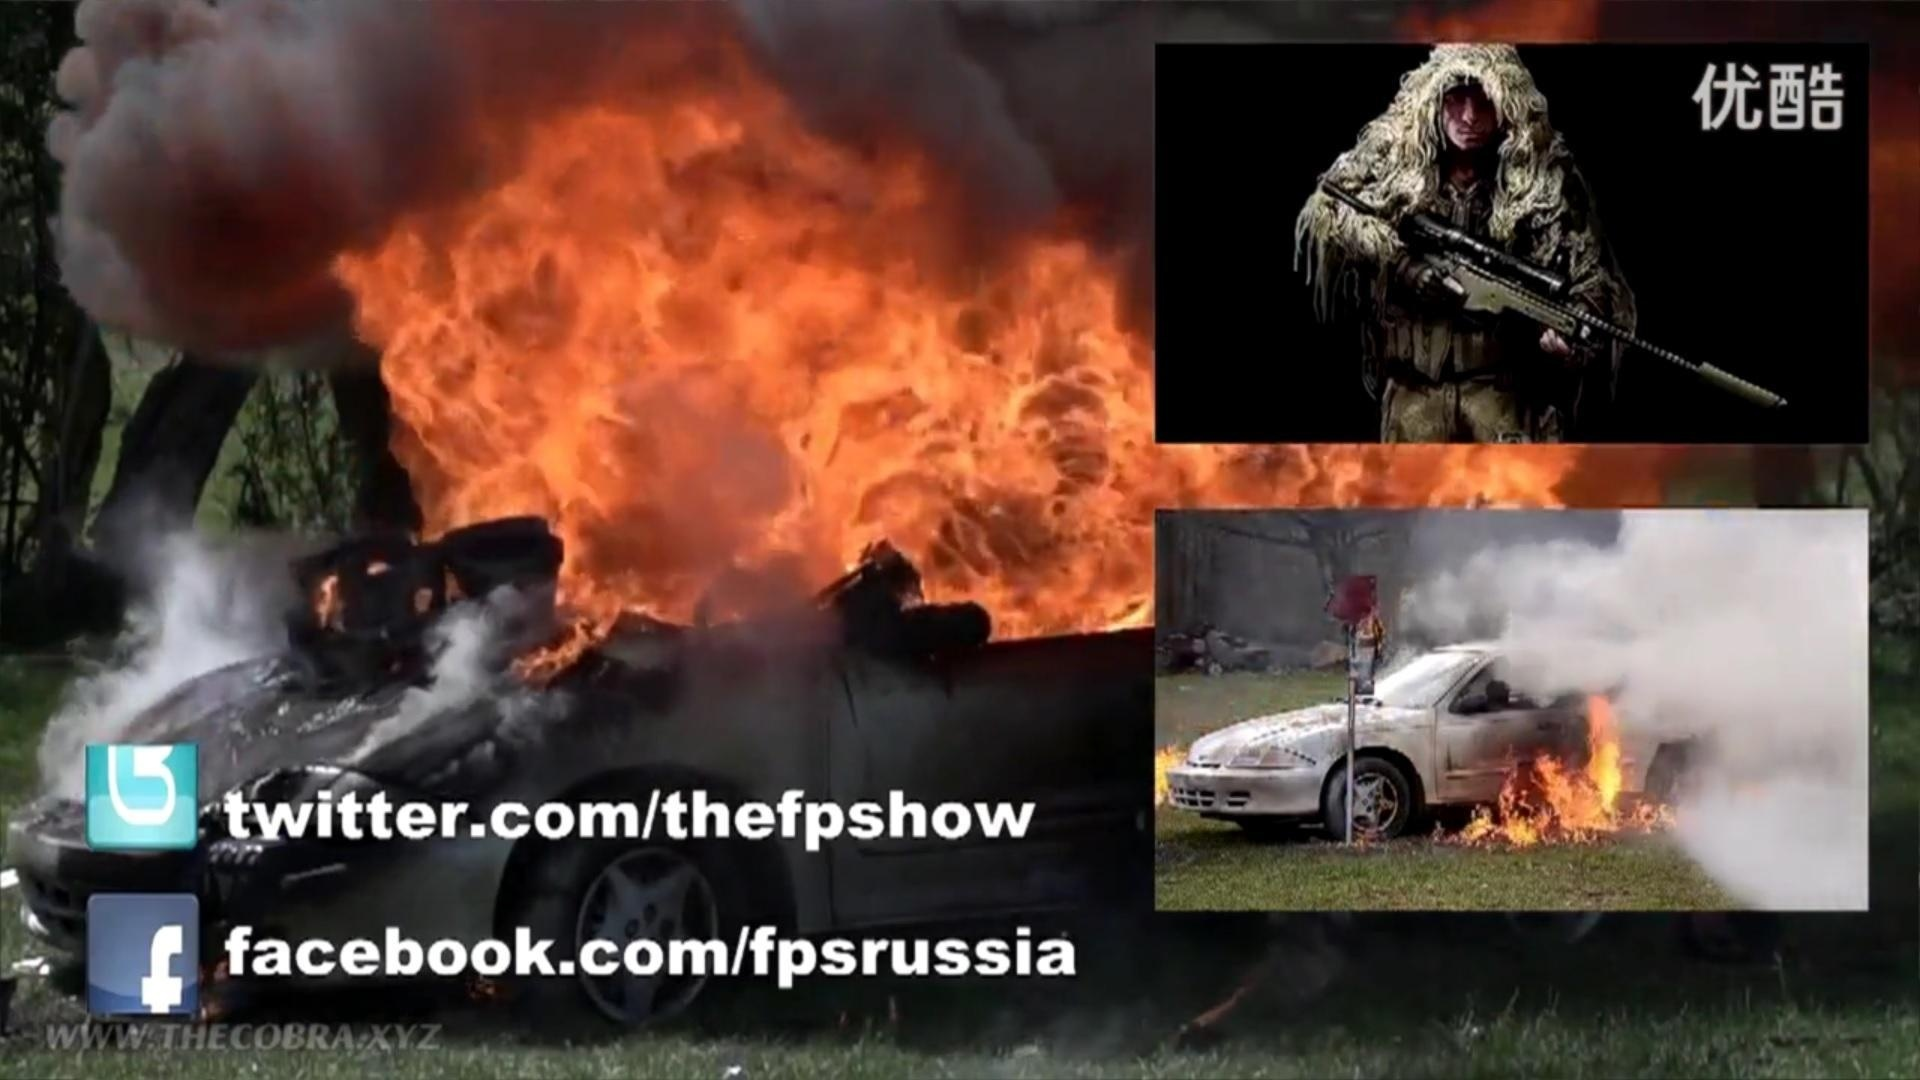fire: (332, 51, 1150, 669), (1447, 684, 1669, 848), (1170, 439, 1571, 514), (1149, 738, 1185, 804)
